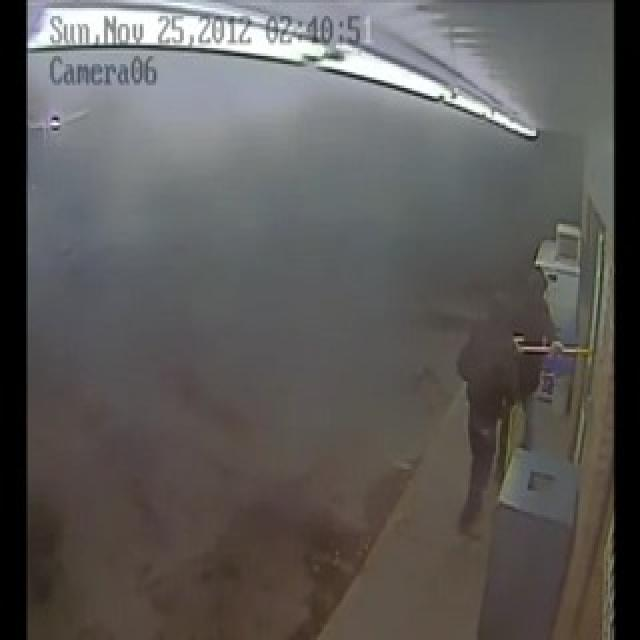thief: (451, 264, 562, 526)
